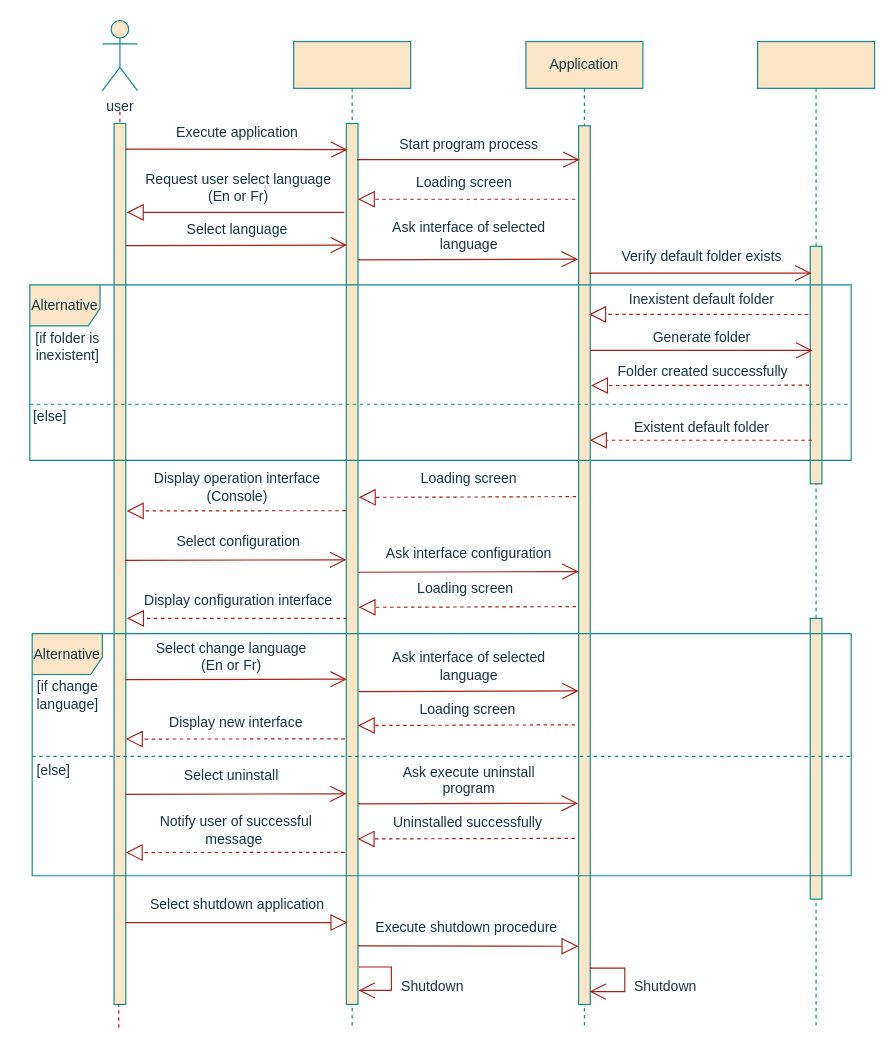
The diagram is 895 pixels wide and 1049 high, and some of its shapes have lost their labels. Each missing label, with the box of its shape:
Application IHM: (292, 40, 411, 1028)
Storage: (756, 40, 875, 1028)
